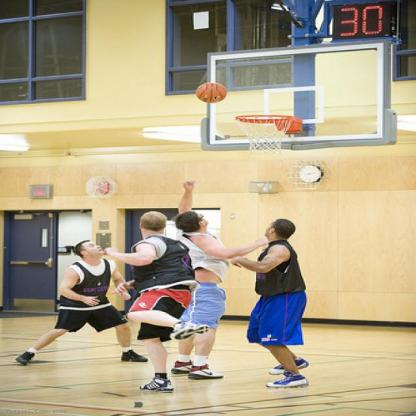basketball: (196, 82, 226, 103)
rim: (233, 114, 294, 126)
